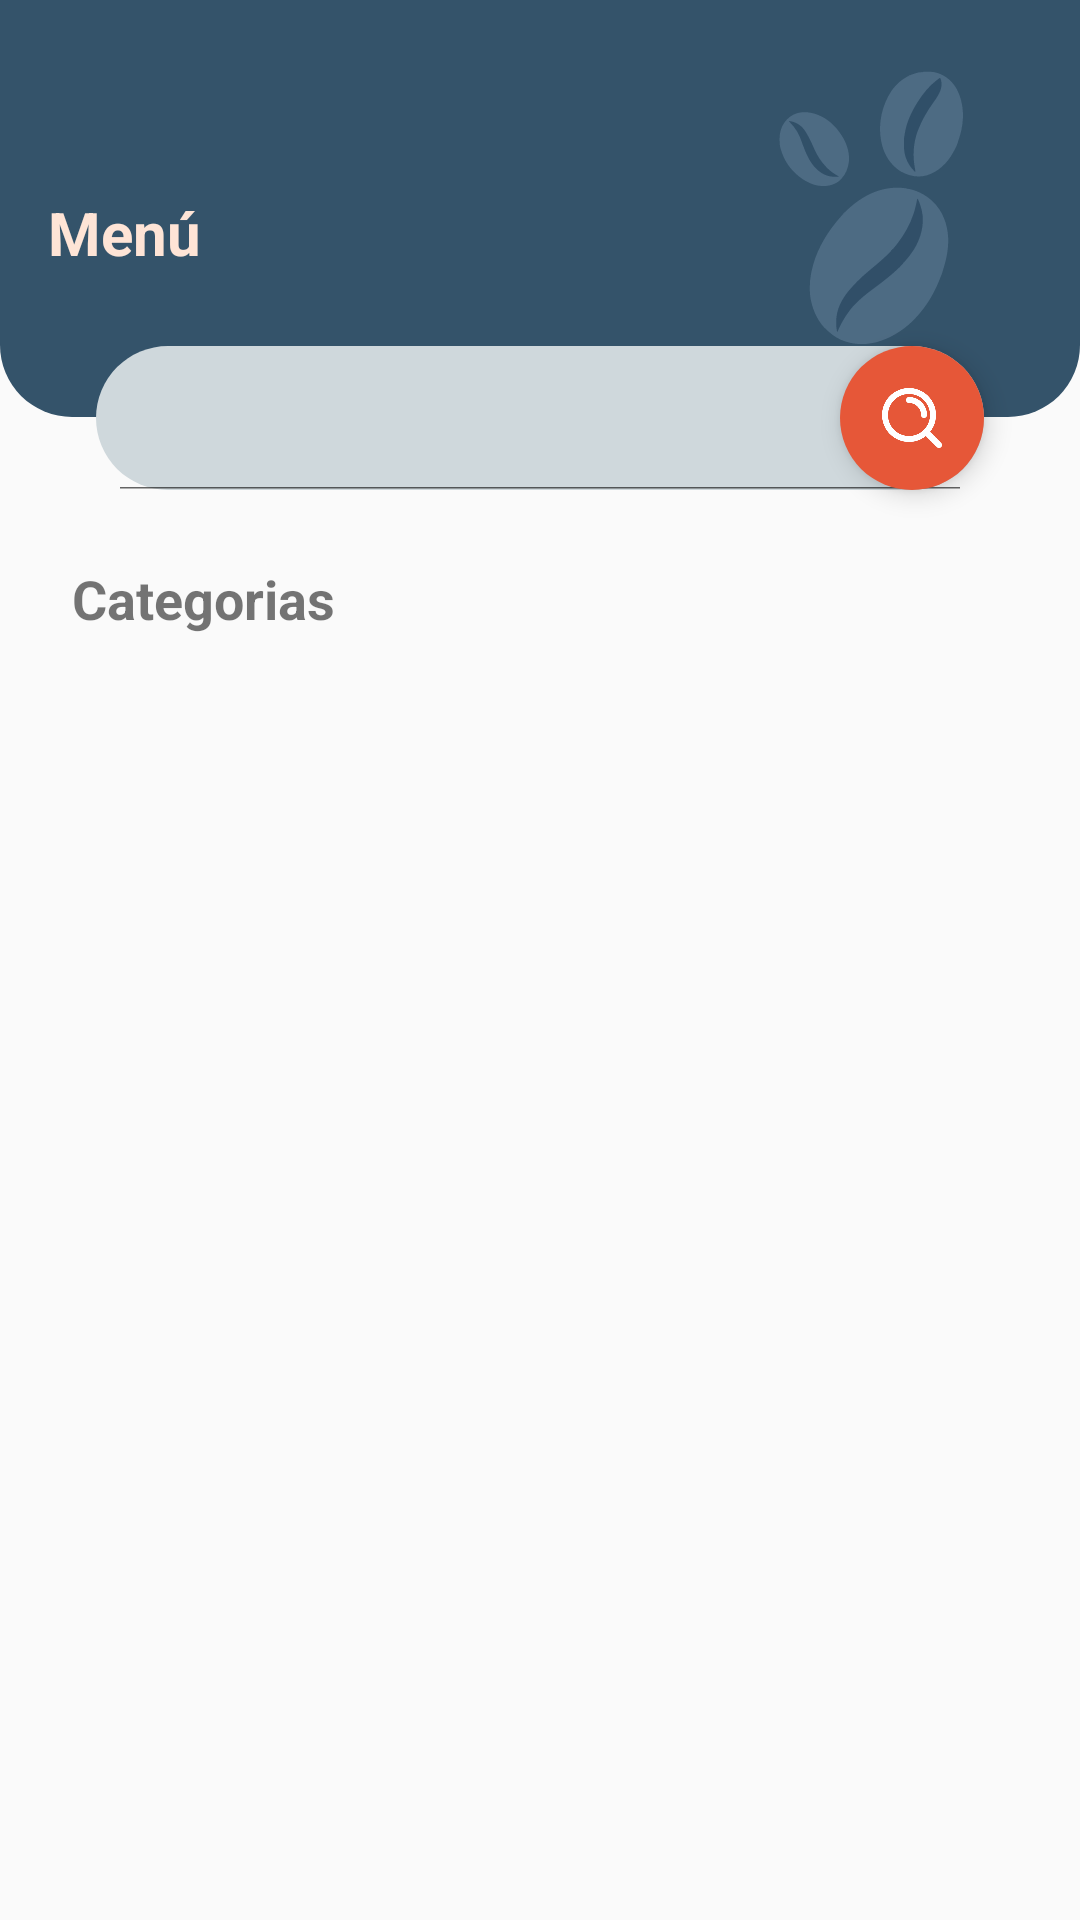

Named icons in this screenshot (1080 x 1920) and their centers, (x=x, y=y):
granos cafe: (x=871, y=208)
search: (x=912, y=418)
